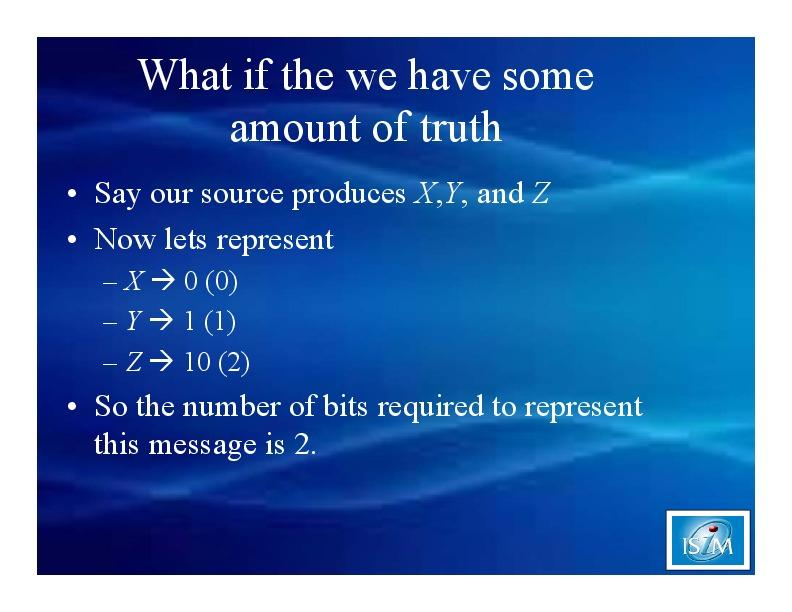paragraph: (61, 173, 673, 469)
title: (132, 48, 618, 150)
